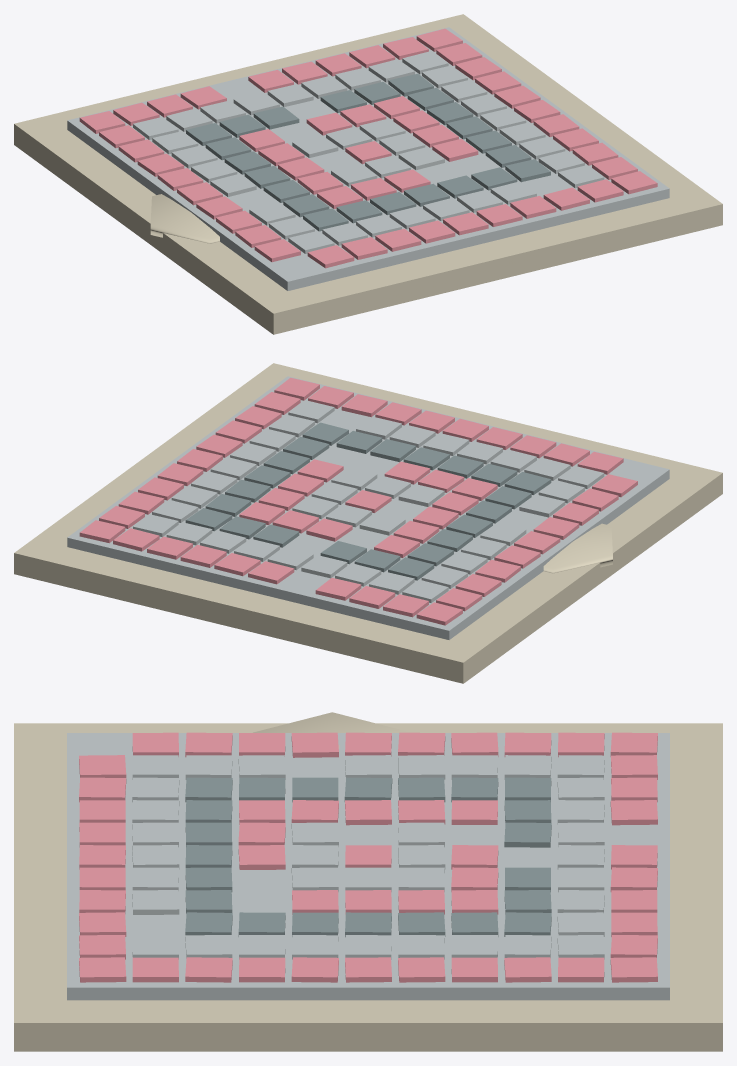
File: sunken-city-and-underwater-ruins-mosaic-floor-plate-f5fe523d__36947.glb
3 renders of one model, top to bottom at view 1: azimuth 30°, elevation 25°; view 2: azimuth 150°, elevation 25°; view 3: azimuth 270°, elevation 25°, orthographic. The views are drawn at different scales.
Visible parts, largest first — view 1: mosaic-floor-plate; view 2: mosaic-floor-plate; view 3: mosaic-floor-plate.
Boxes of the visible parts, x1,y1,x2,y2 form: mosaic-floor-plate: (14,14,722,334); mosaic-floor-plate: (14,363,722,683); mosaic-floor-plate: (14,712,722,1051).
Size of the model in its own units: 4.06 by 0.2925 by 4.
